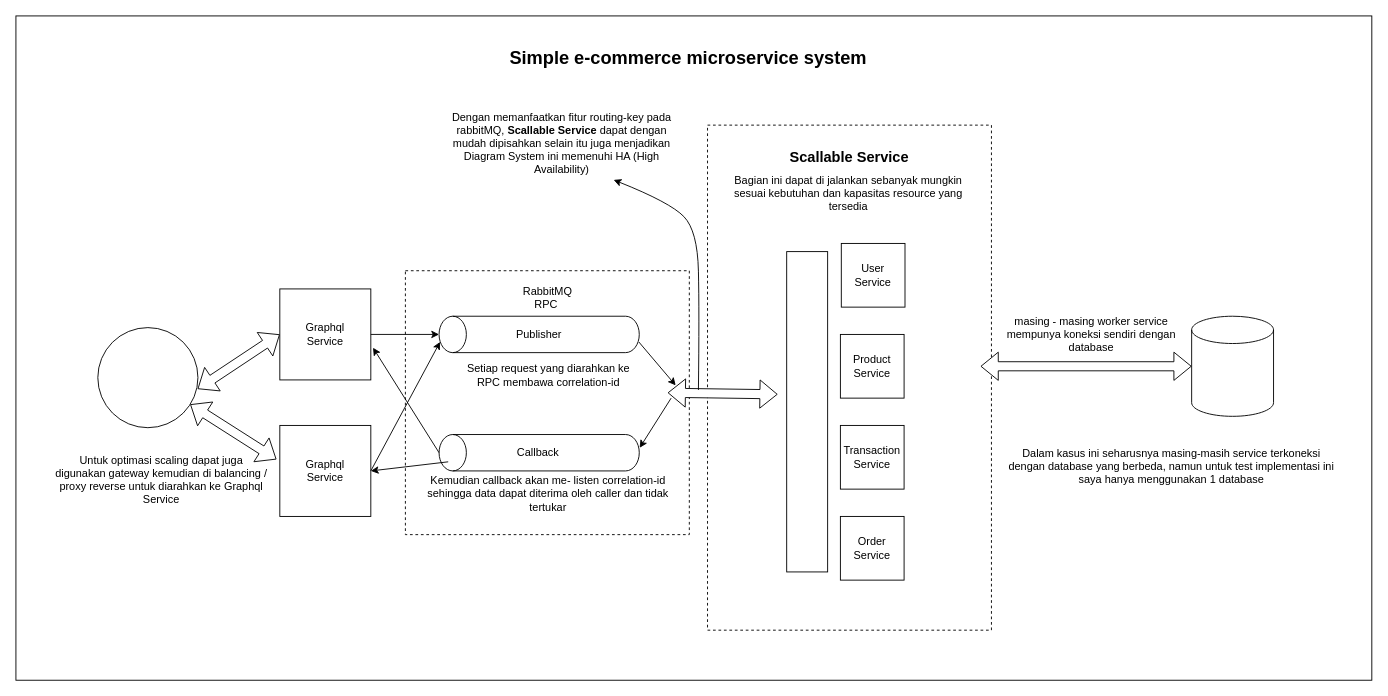
This 1388x696 diagram has some shape labels left out. Each missing label, with the centre of its shape:
Consumer: the point at 807,411
Gateway Kong / Nginx / Apache: the point at 147,377
Postgresql DB: the point at 1232,365
